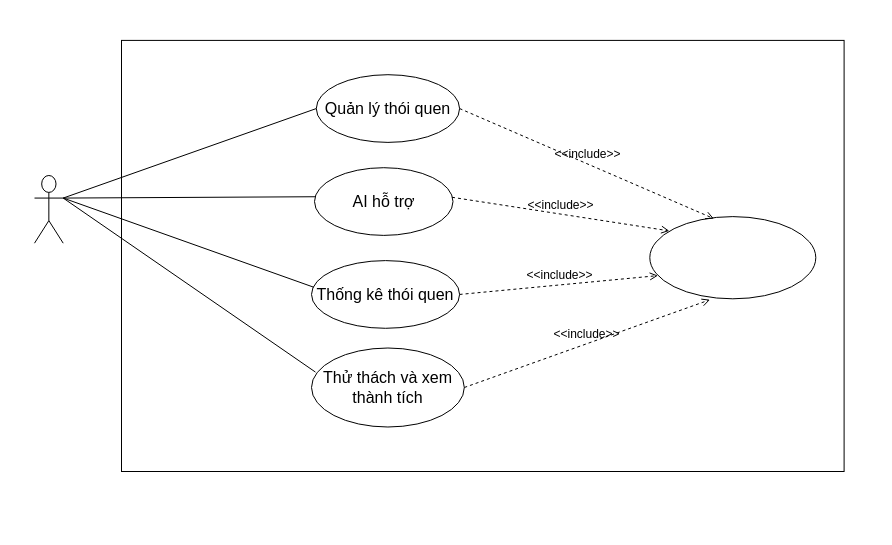
Image size: 892x545. Some labels were removed from this diagram. The shapes that lost their labels are listed below. From the top down, each one's centre as x and y in pixels, then its label:
At point (48, 208): "Người dùng".
At point (732, 257): "Đăng nhập".
